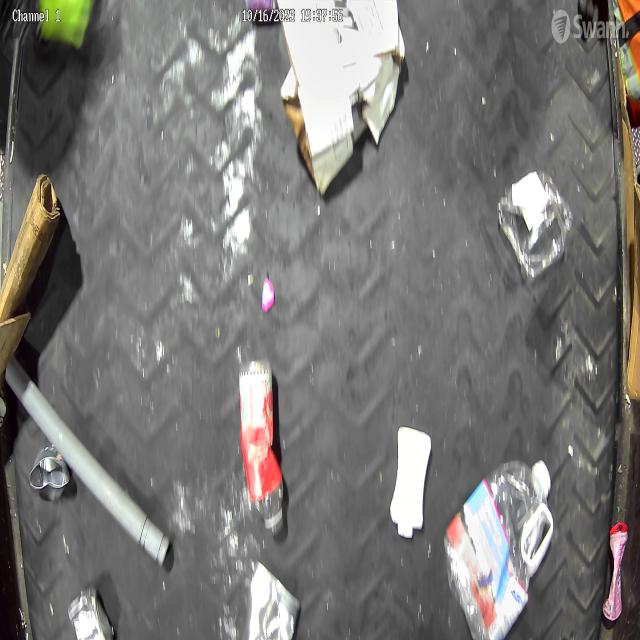can: (241, 555, 302, 640), (66, 583, 116, 640), (28, 446, 72, 502)
plastic_bottle: (444, 456, 552, 640), (238, 356, 284, 535)
